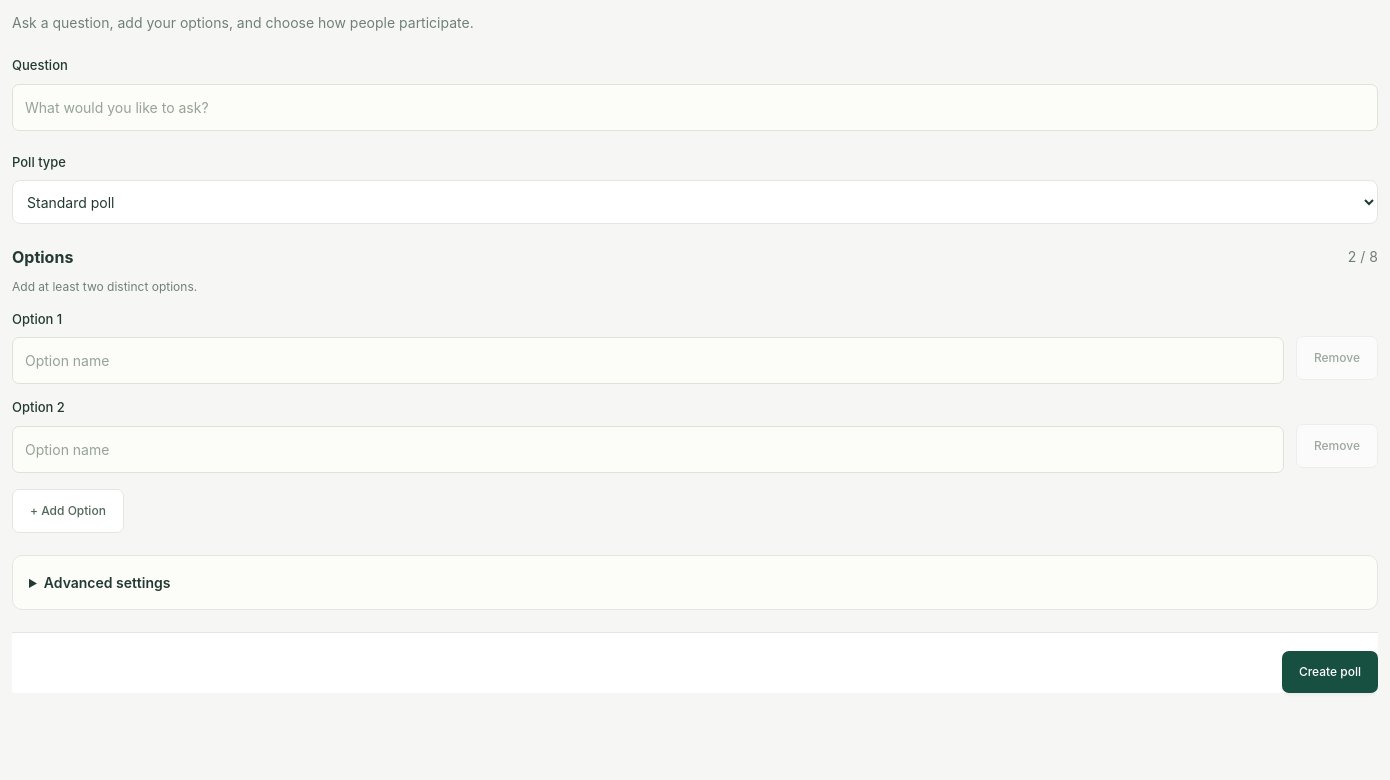
Test case: Polling interface › validates empty and duplicate option names beside their fields without sending a request
Type "Topic?" into the field labelled "Question".
click(695, 107); type("Topic?")  # box [12,84,1378,131]
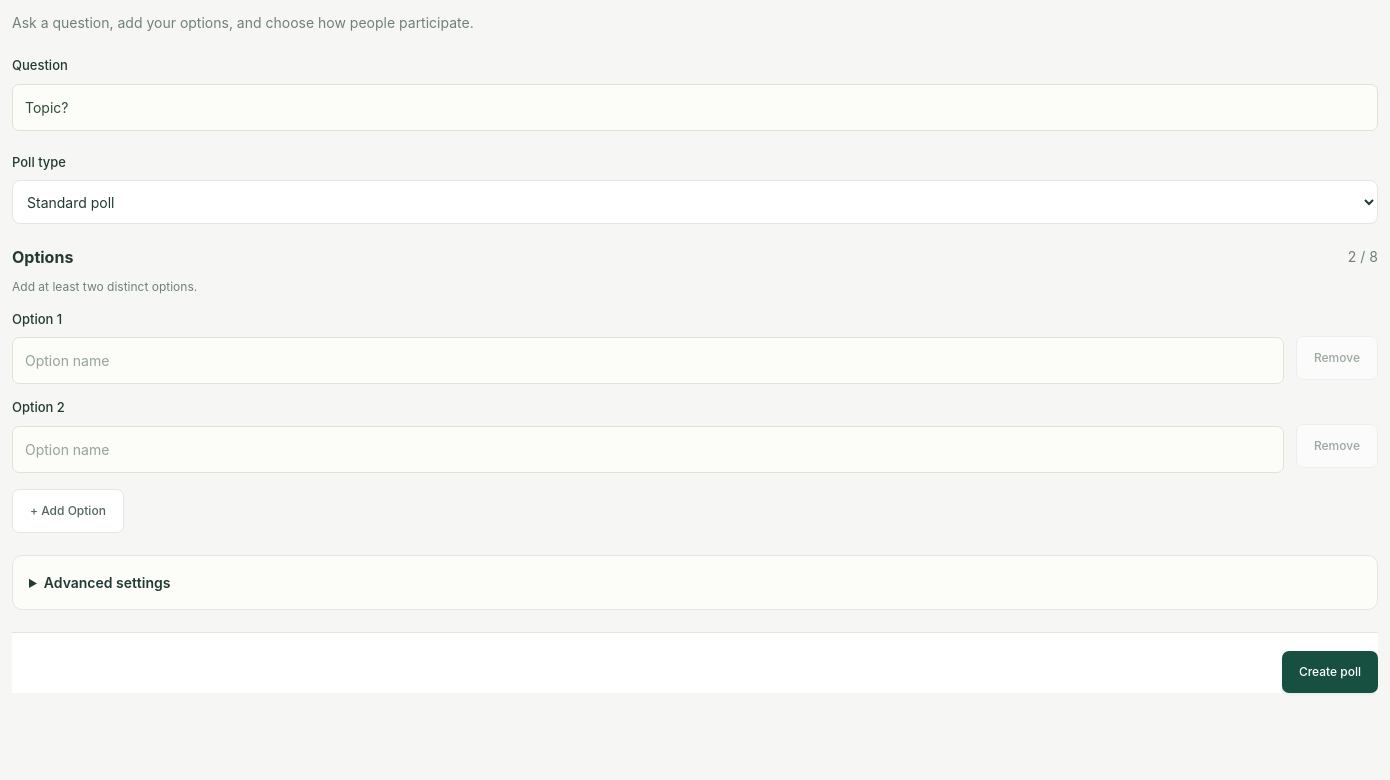
Click the button "Create poll".
click(1330, 672)  # box [1282,651,1378,693]
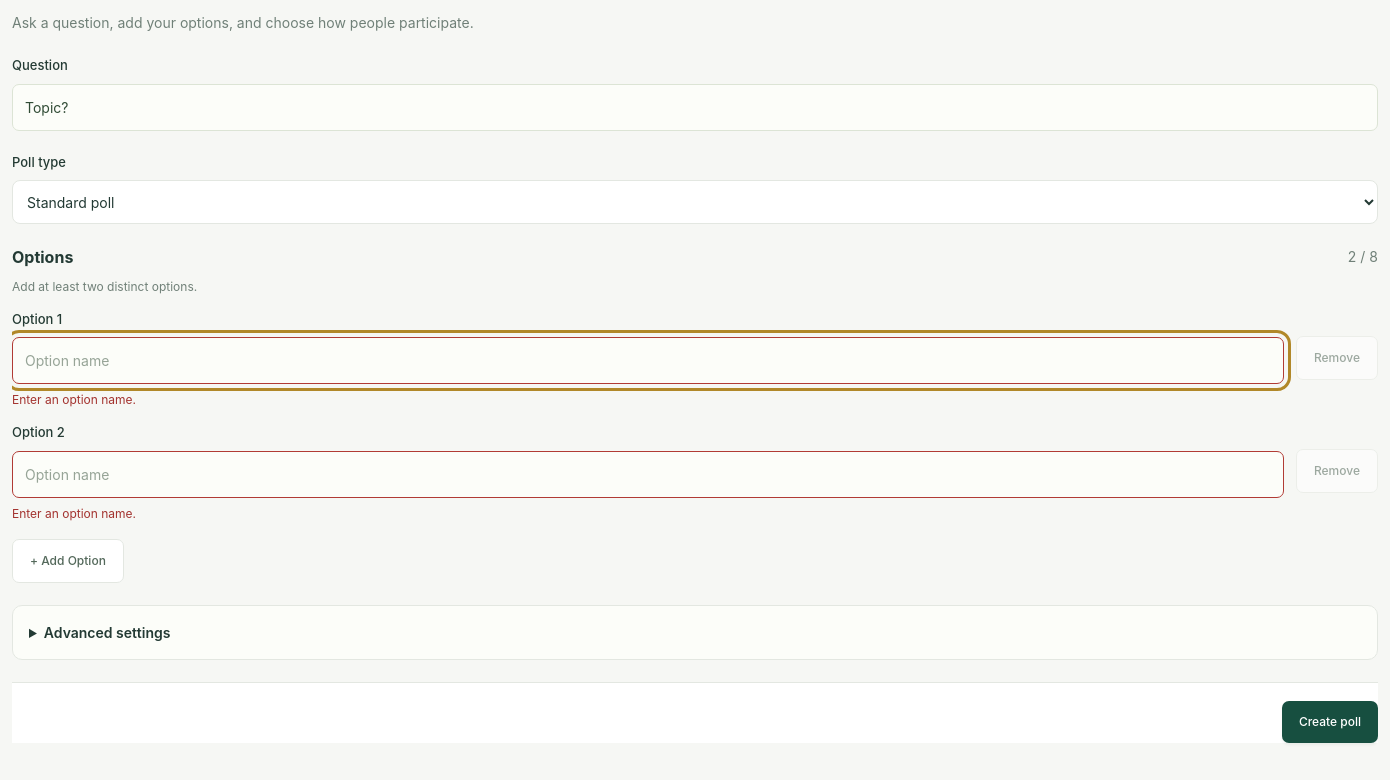
Result: the text "Enter an option name." is shown 2 times at [12,392,136,408]; [12,506,136,521]
Type " Art " into the field labelled "Option 1".
click(648, 361); type(" Art ")  # box [12,338,1284,384]
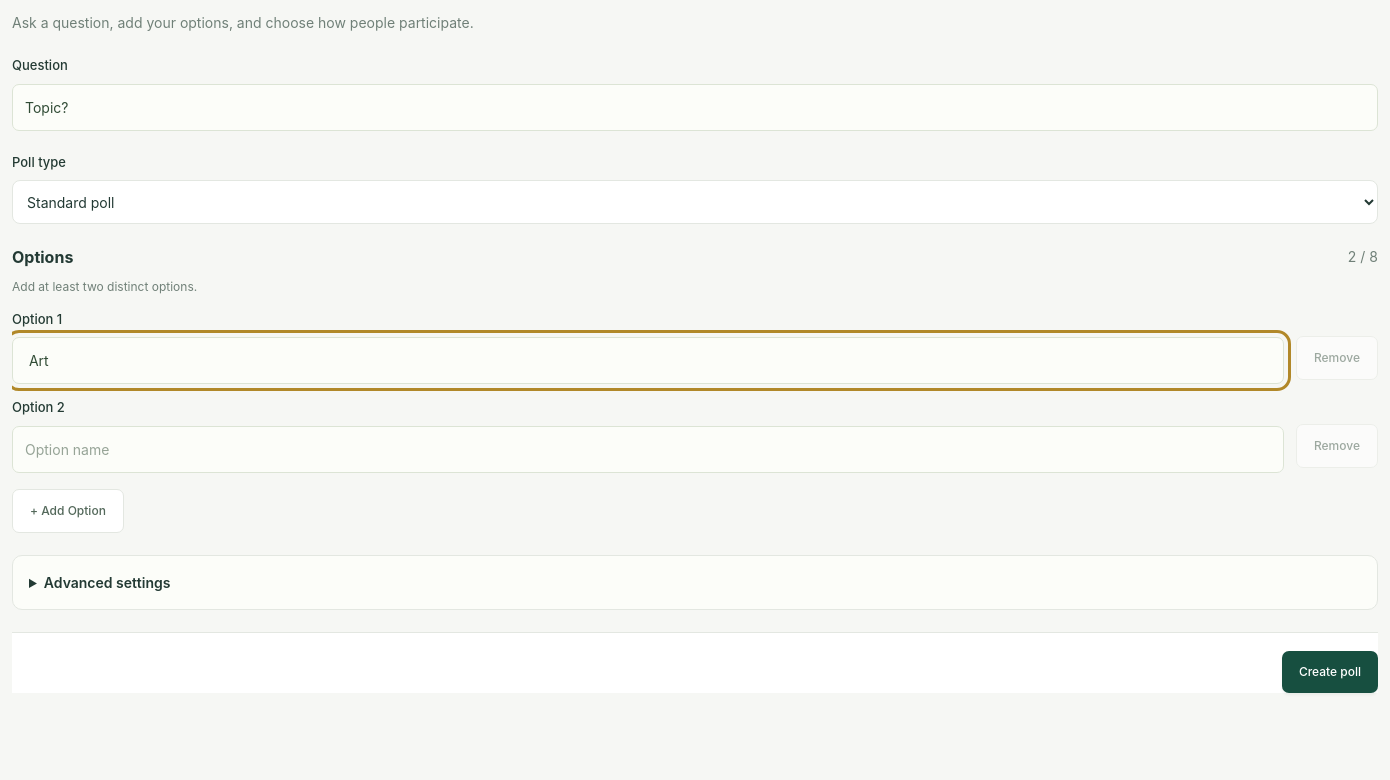
Type "art" into the field labelled "Option 2".
click(648, 450); type("art")  # box [12,426,1284,473]
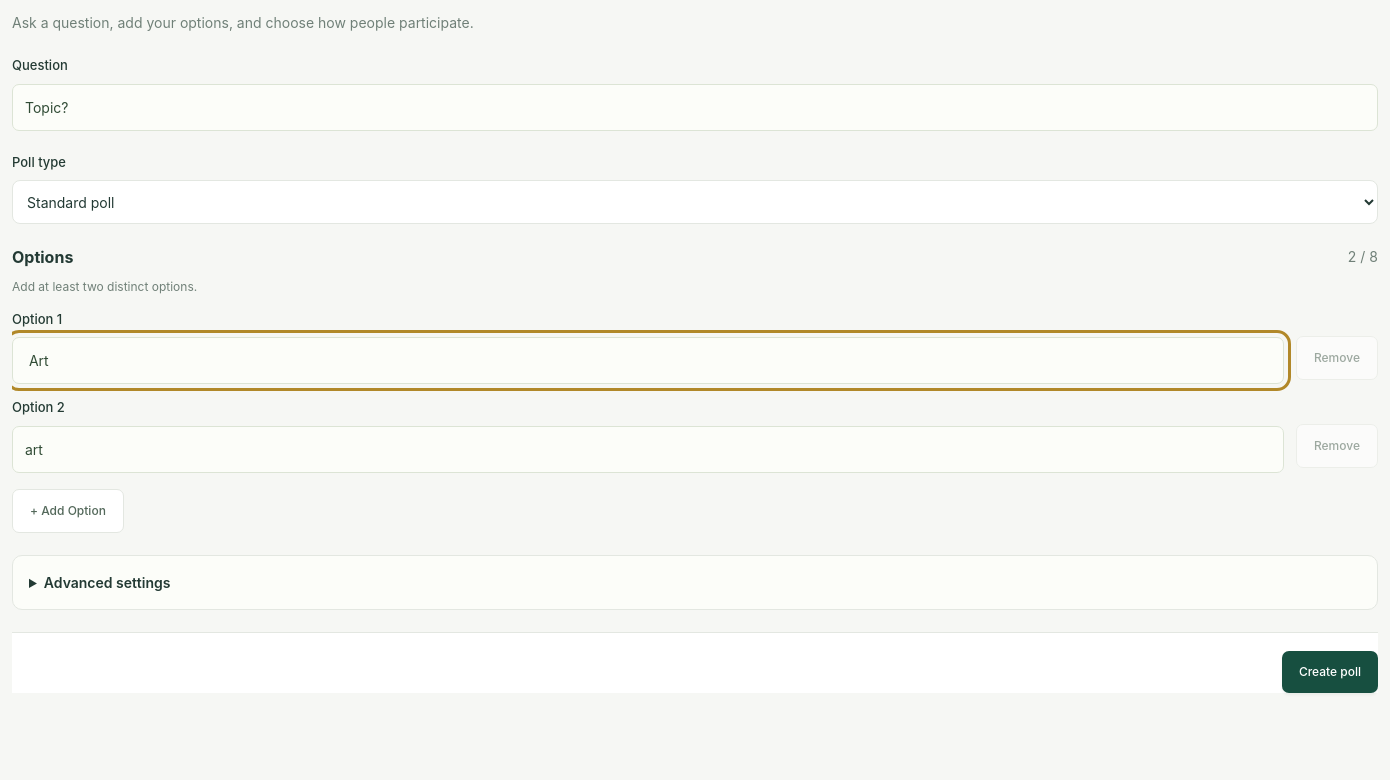
Click the button "Create poll".
click(1330, 672)  # box [1282,651,1378,693]
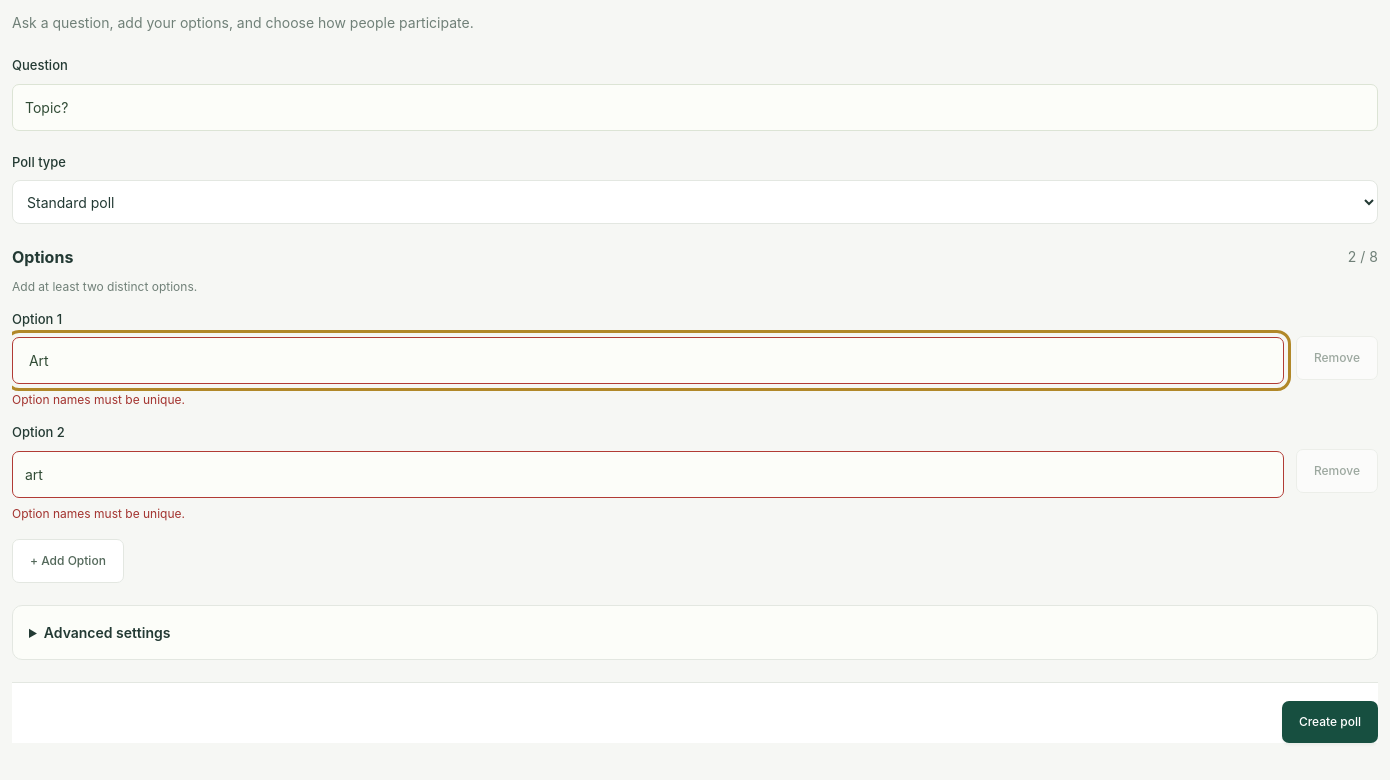
Result: the text "Option names must be unique." is shown 2 times at [12,392,185,408]; [12,506,185,521]
